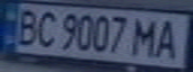0: (90, 11, 112, 53), (75, 11, 96, 52)
7: (109, 12, 133, 55)
9: (54, 10, 81, 51)
A: (151, 16, 187, 61)
B: (9, 6, 42, 47)
C: (30, 8, 60, 48)
M: (130, 15, 163, 57)
